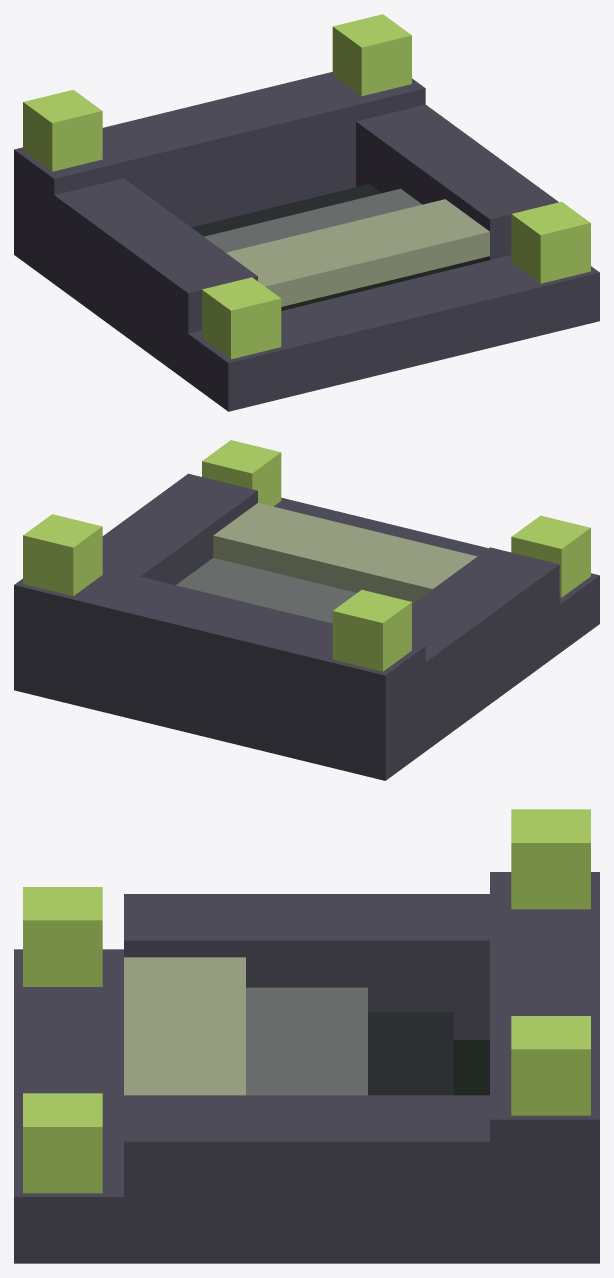
Rendered from stairs.glb.
3 renders of one model, top to bottom at view 1: azimuth 30°, elevation 25°; view 2: azimuth 150°, elevation 25°; view 3: azimuth 270°, elevation 25°, orthographic. The views are drawn at different scales.
Visible parts, largest first — view 1: RimN, RimS, RimW, Step0, RimE, Rune1, Rune3, Rune0, Rune2, Step1, Step2, Shaft; view 2: RimN, RimW, Step0, RimE, Step1, Rune1, Rune0, RimS, Rune3, Rune2; view 3: RimE, RimW, RimN, RimS, Step0, Step1, Rune1, Rune2, Rune0, Rune3, Step2, Shaft.
Part boxes in pixels (x1,y1,x2,y2): RimN: [14, 72, 425, 283]; RimS: [188, 255, 599, 411]; RimW: [54, 178, 257, 381]; Step0: [226, 199, 489, 306]; RimE: [356, 104, 558, 267]; Rune1: [23, 89, 102, 171]; Rune3: [202, 277, 281, 359]; Rune0: [332, 14, 411, 95]; Rune2: [511, 201, 590, 283]; Step1: [204, 188, 421, 252]; Step2: [191, 184, 381, 236]; Shaft: [281, 265, 456, 310]; RimN: [14, 567, 425, 780]; RimW: [412, 547, 559, 750]; Step0: [213, 503, 477, 603]; RimE: [102, 473, 257, 585]; Step1: [176, 558, 356, 623]; Rune1: [332, 590, 411, 671]; Rune0: [23, 514, 102, 596]; RimS: [274, 497, 599, 652]; Rune3: [511, 515, 590, 597]; Rune2: [202, 440, 281, 506]; RimE: [124, 1095, 489, 1263]; RimW: [124, 894, 489, 1039]; RimN: [490, 872, 599, 1263]; RimS: [14, 949, 123, 1263]; Step0: [124, 957, 245, 1095]; Step1: [246, 987, 367, 1095]; Rune1: [511, 809, 590, 909]; Rune2: [23, 1093, 102, 1193]; Rune0: [511, 1016, 590, 1115]; Rune3: [23, 887, 102, 986]; Step2: [368, 1012, 453, 1095]; Shaft: [453, 1040, 489, 1095].
Size of the model in its own units: 0.96 by 0.38 by 0.96.
